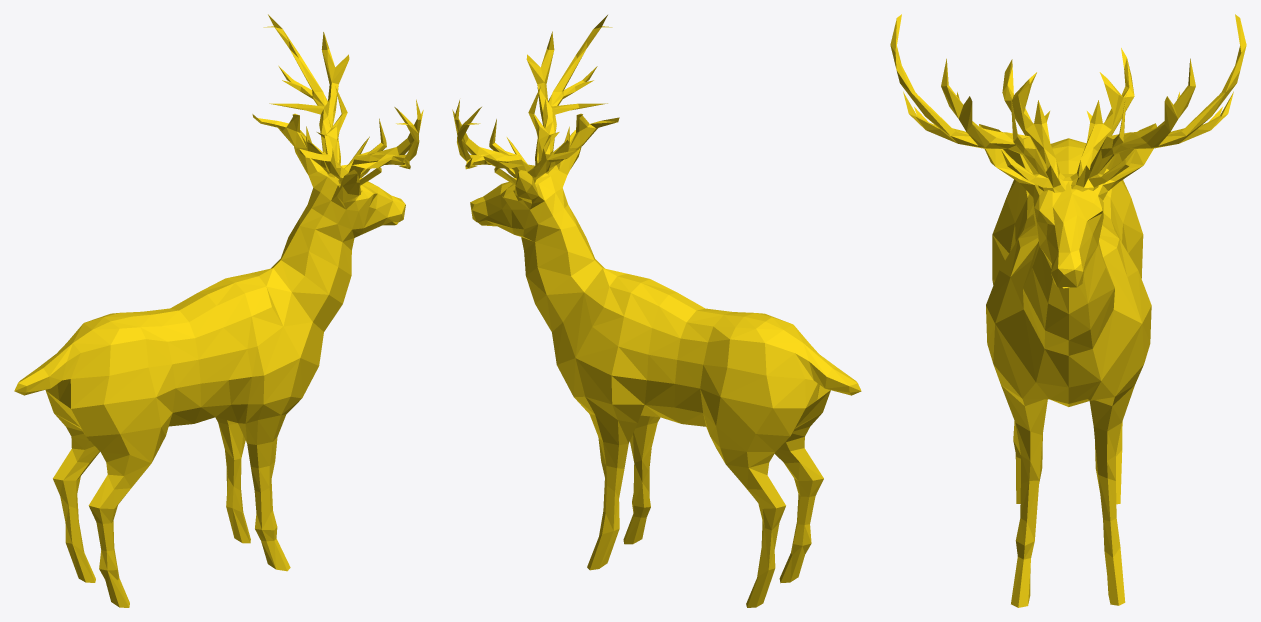
Rendered from deer-gold.obj.
The picture shows the model from 3 angles, left to right: view 1: azimuth 30°, elevation 25°; view 2: azimuth 150°, elevation 25°; view 3: azimuth 270°, elevation 25°; orthographic projection. The views are drawn at different scales.
Visible parts, largest first — view 1: deer; view 2: deer; view 3: deer.
Boxes of the visible parts, x1,y1,x2,y2 form: deer: (14,14,423,607); deer: (452,15,861,607); deer: (890,14,1246,607).
Size of the model in its own units: 1230 by 1447 by 738.
